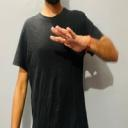hand: (47, 24, 90, 52)
